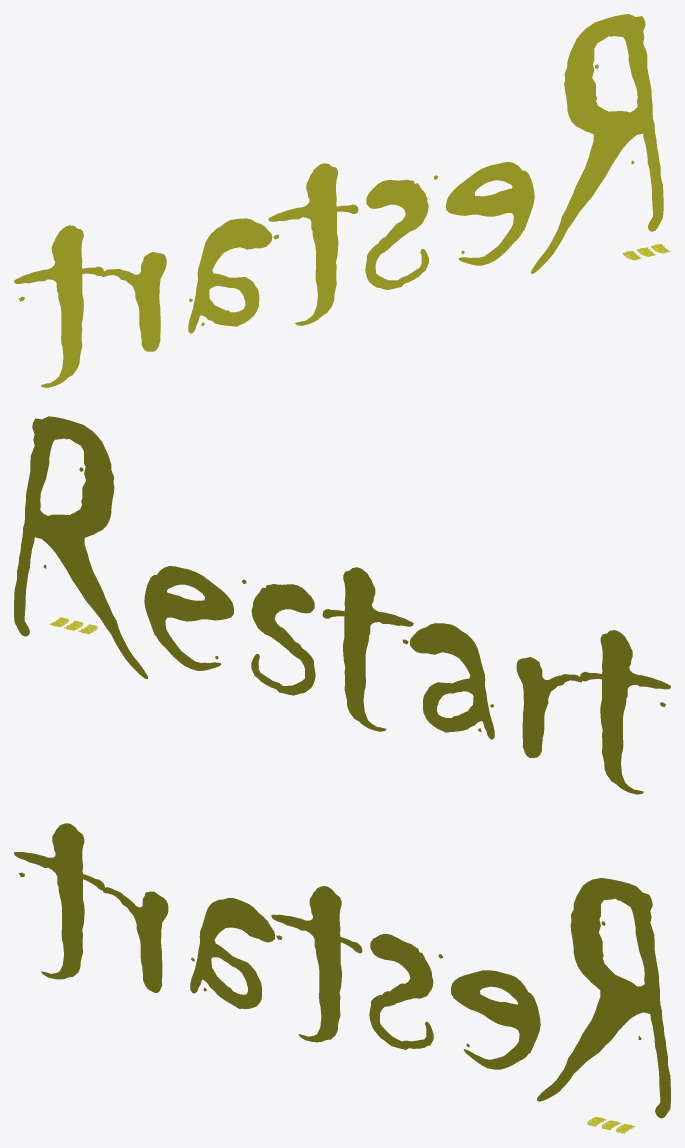
Rendered from restartPauseMenuButtonText.obj.
3 renders of one model, top to bottom at view 1: azimuth 30°, elevation 25°; view 2: azimuth 150°, elevation 25°; view 3: azimuth 330°, elevation 25°, orthographic.
Parts seen in each view (by area): view 1: restartPauseMenuButtonText; view 2: restartPauseMenuButtonText; view 3: restartPauseMenuButtonText.
Part boxes in pixels (left/top/right/bottom): restartPauseMenuButtonText: left=14, top=14, right=663, bottom=387; restartPauseMenuButtonText: left=14, top=416, right=670, bottom=794; restartPauseMenuButtonText: left=14, top=823, right=670, bottom=1118.
Size of the model in its own units: 1.82 by 0.6361 by 0.1315.
